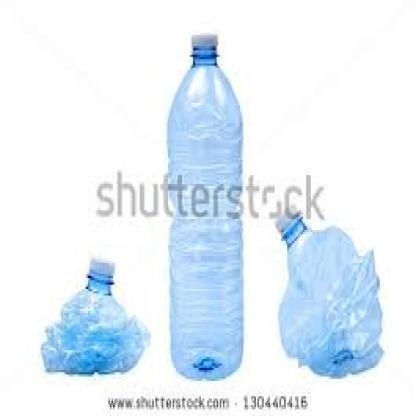trash: (168, 35, 242, 379), (278, 217, 382, 376), (41, 260, 149, 373)
